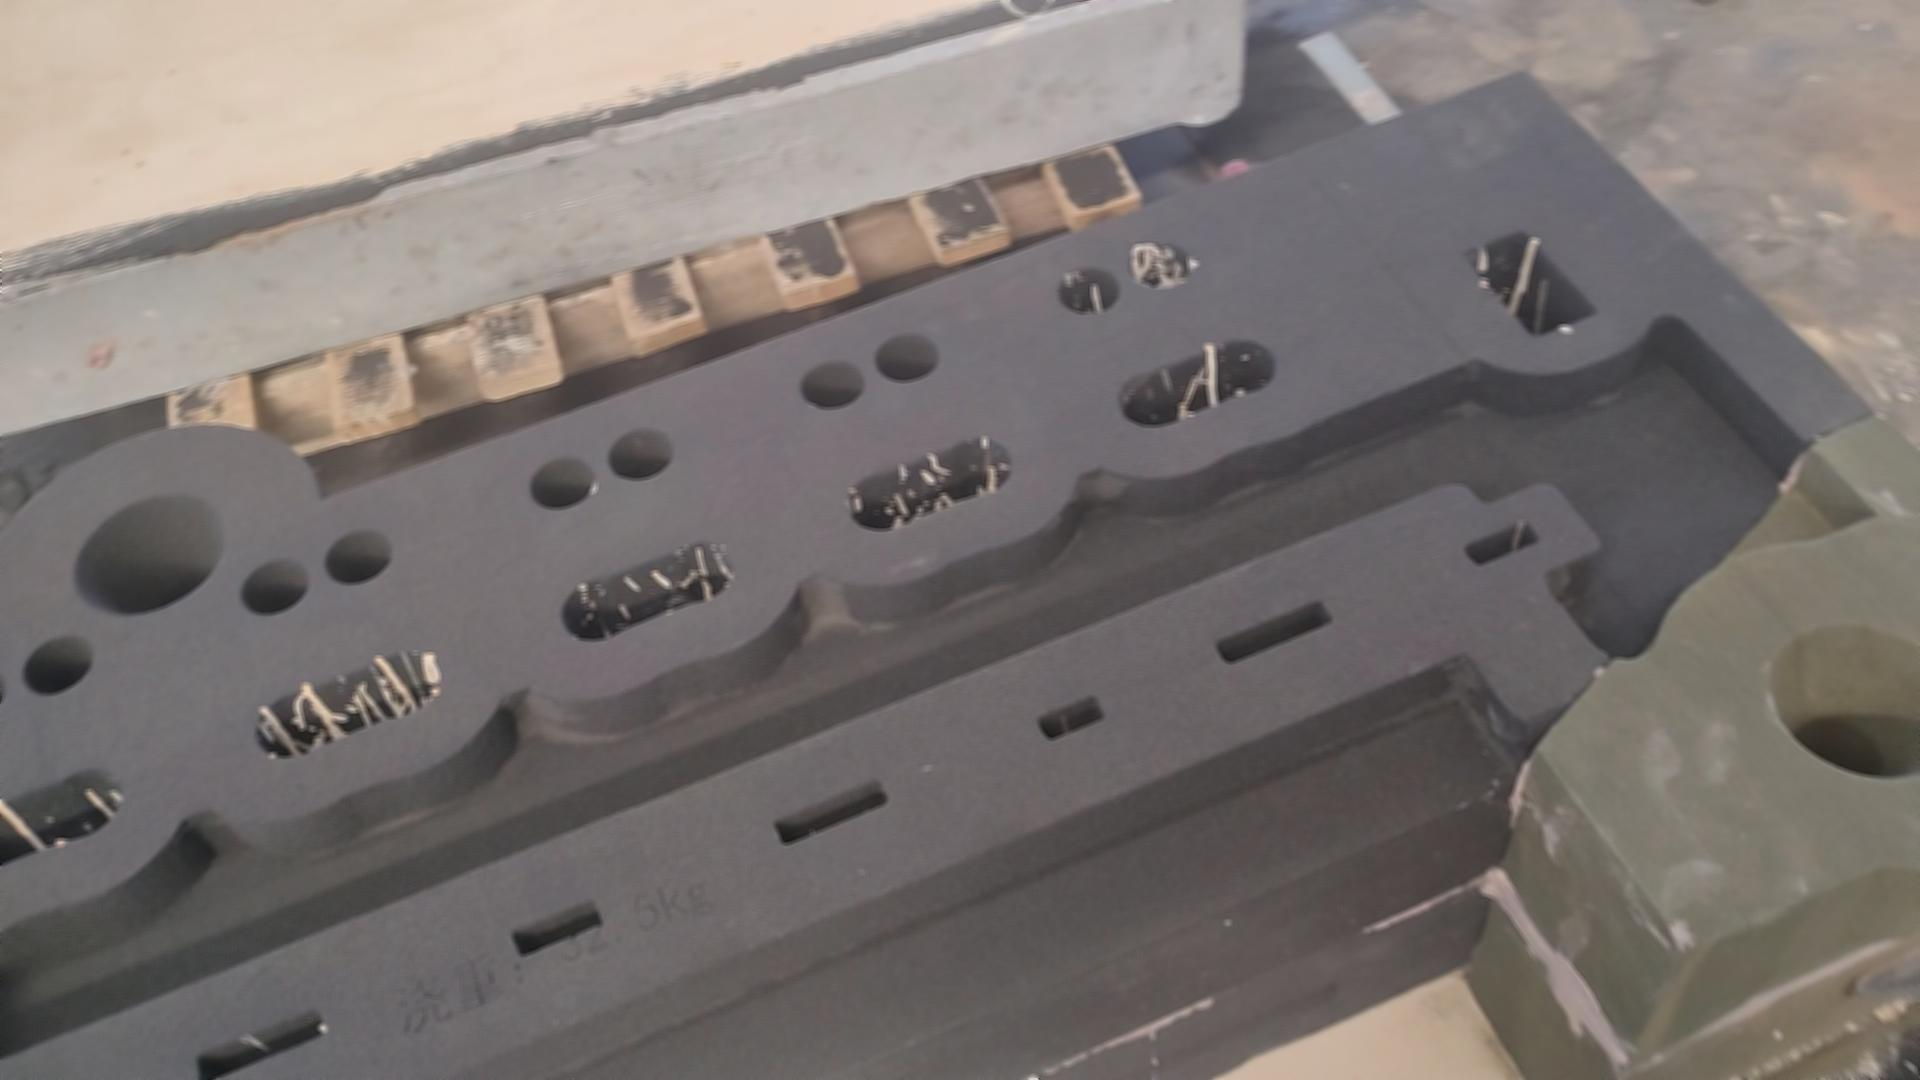pouring hole: (1768, 621, 1920, 781), (71, 493, 225, 617)
